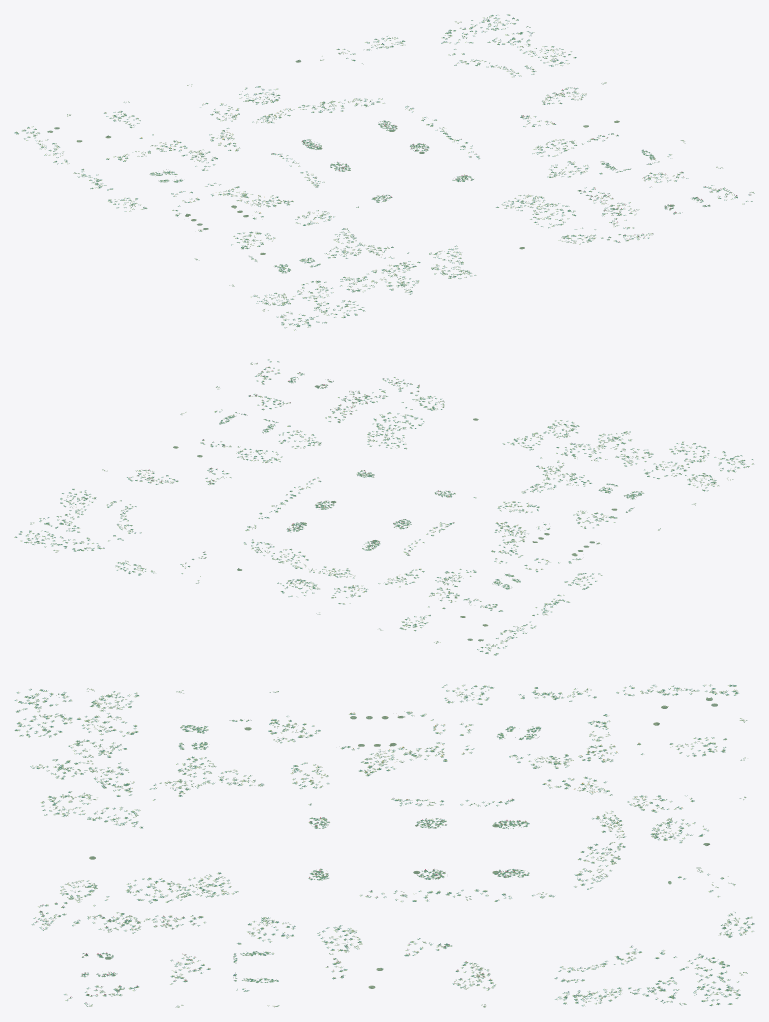
File: reference-public_models_sunwen-landscape-low.glb
3 views of the same model, one above another, from view 1: azimuth 30°, elevation 25°; view 2: azimuth 150°, elevation 25°; view 3: azimuth 270°, elevation 25° (orthographic). The views are drawn at different scales.
Visible parts, largest first — view 1: Sunwen_Tended_Beds_Low; view 2: Sunwen_Tended_Beds_Low; view 3: Sunwen_Tended_Beds_Low.
Boxes of the visible parts, left/top/right/bottom form: Sunwen_Tended_Beds_Low: left=14, top=14, right=754, bottom=330; Sunwen_Tended_Beds_Low: left=14, top=359, right=753, bottom=655; Sunwen_Tended_Beds_Low: left=14, top=684, right=754, bottom=1007.
Bounding box in the file's own units: 291 × 8.91 × 281.
